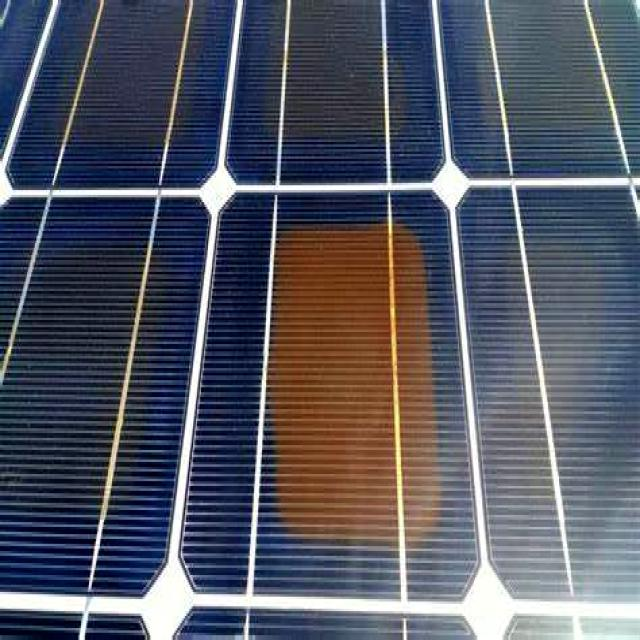shadow: (253, 172, 443, 557), (0, 224, 191, 548), (262, 0, 420, 152), (51, 0, 202, 155), (474, 0, 628, 139)
